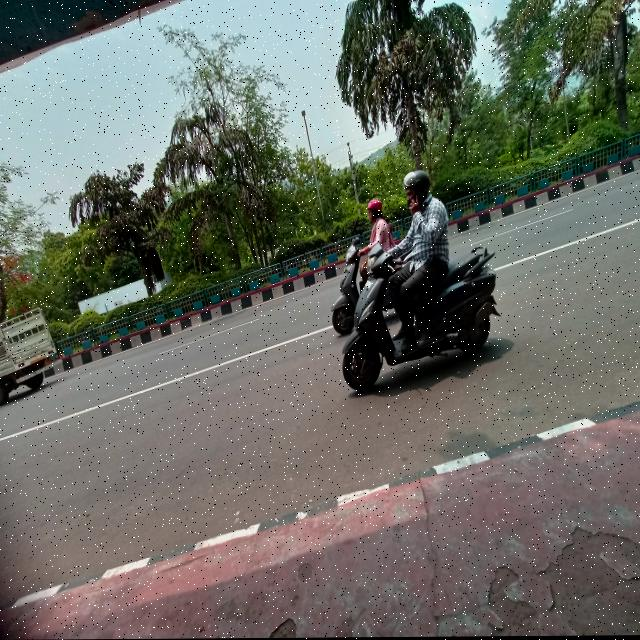bike: (336, 241, 504, 391)
